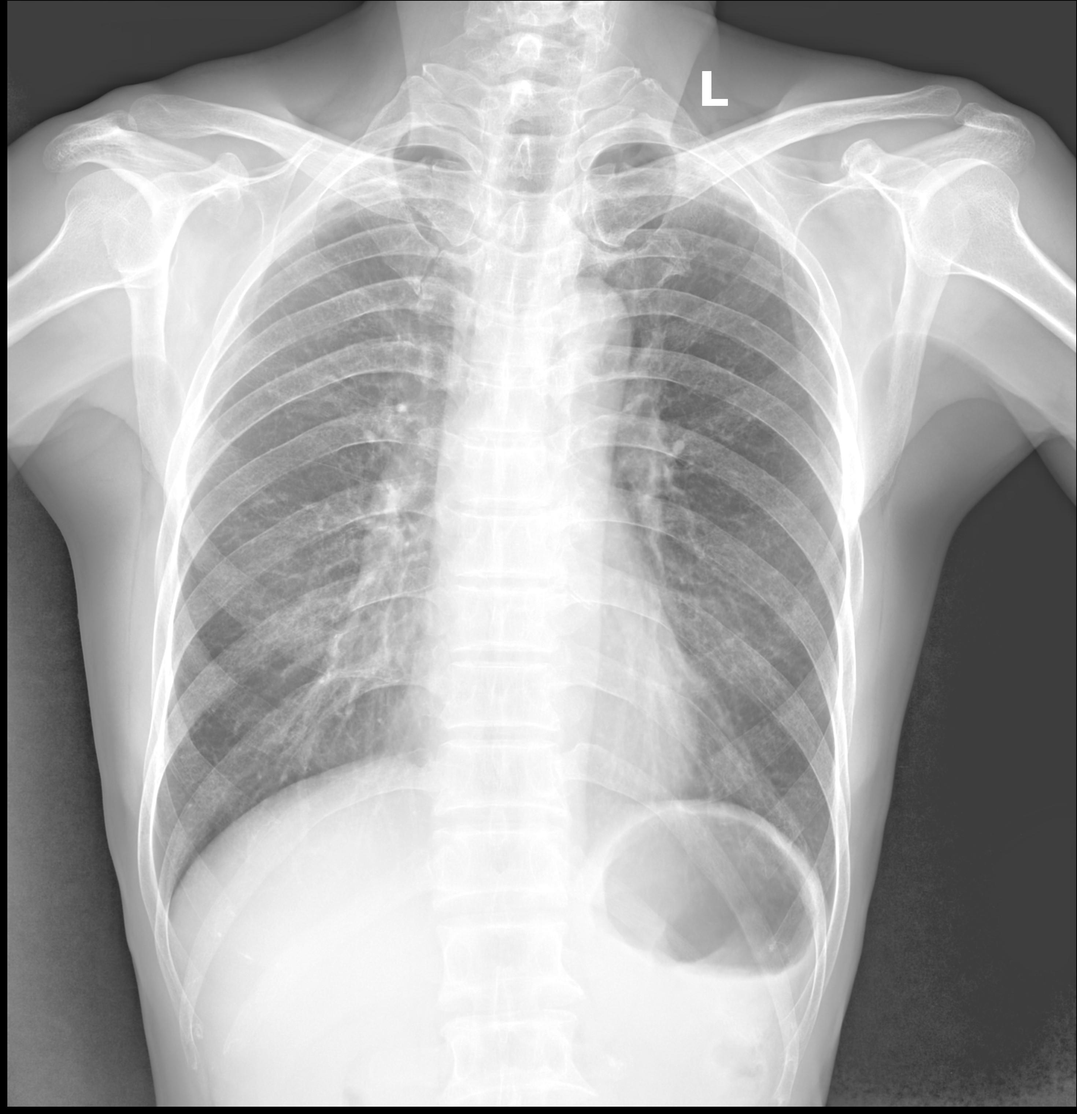Aortic enlargement: (515, 274, 635, 399)
Pleural thickening: (580, 120, 657, 162), (419, 139, 469, 163)
